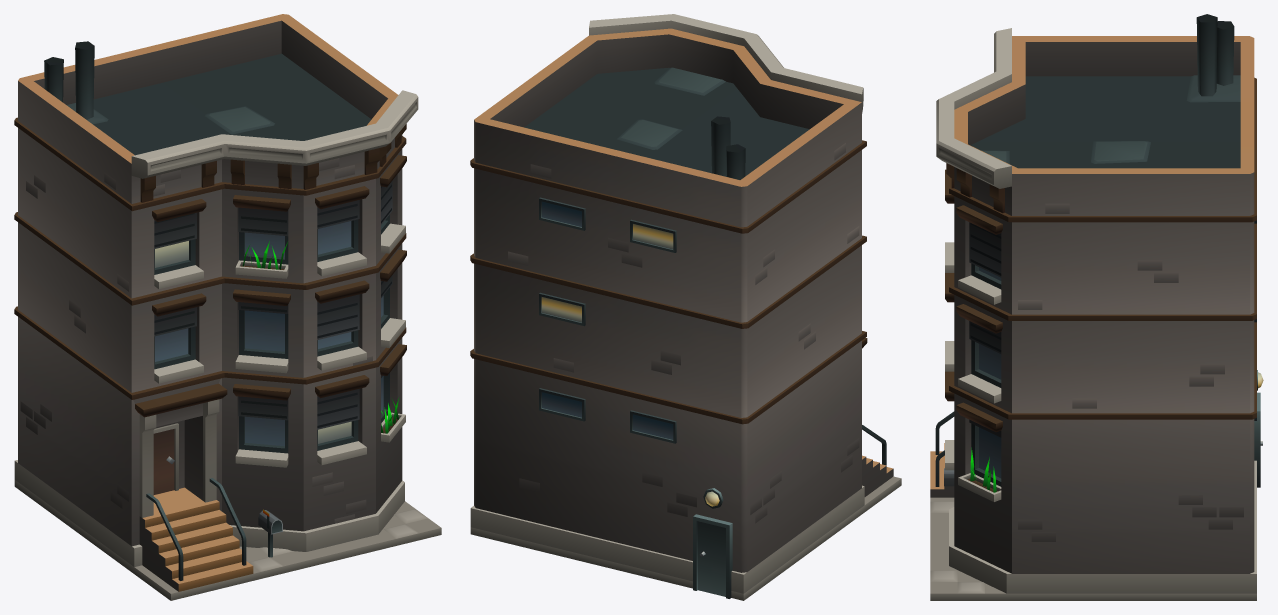
File: Building_3A.fbx
3 views of the same model, side by side, from view 1: azimuth 30°, elevation 25°; view 2: azimuth 150°, elevation 25°; view 3: azimuth 270°, elevation 25° (orthographic). The views are drawn at different scales.
Parts seen in each view (by area): view 1: Building_3A, Window_Lights_3A; view 2: Building_3A, Window_Lights_3A; view 3: Building_3A.
Boxes of the visible parts, x1,y1,x2,y2 form: Building_3A: (14,14,441,600); Window_Lights_3A: (155,241,351,443); Building_3A: (470,14,901,600); Window_Lights_3A: (541,224,673,322); Building_3A: (930,14,1263,600).
Size of the model in its own units: 1242 by 1895 by 1224.
